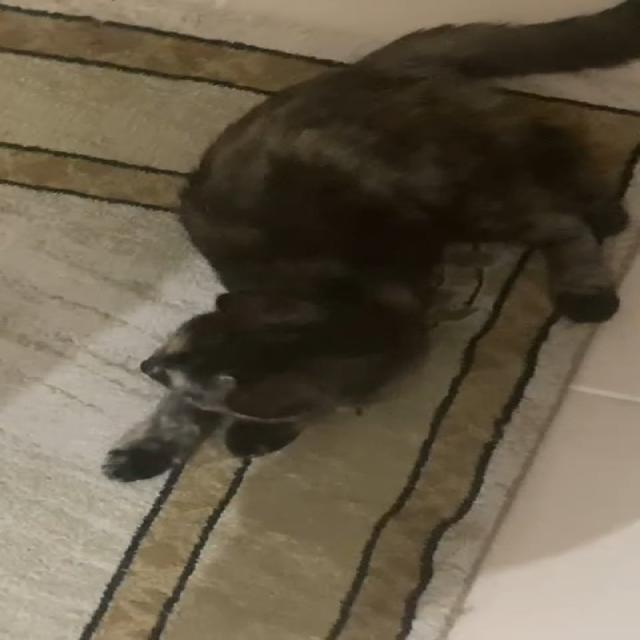authorized: (91, 0, 637, 638)
